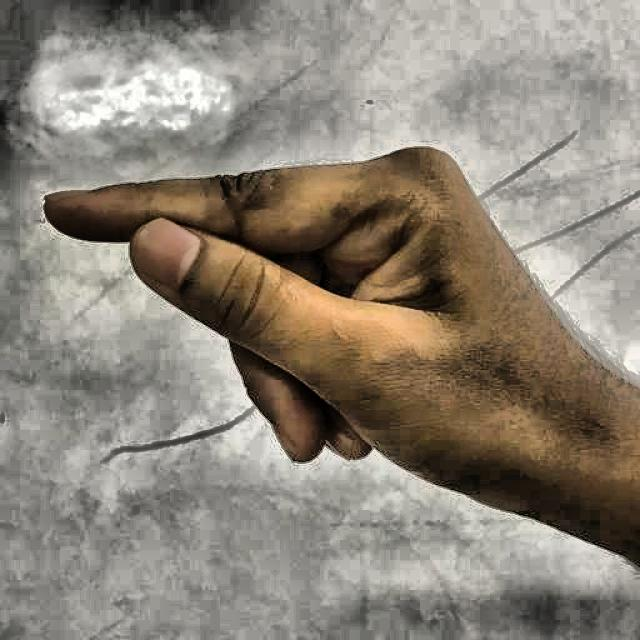Tha: (35, 116, 635, 570)
